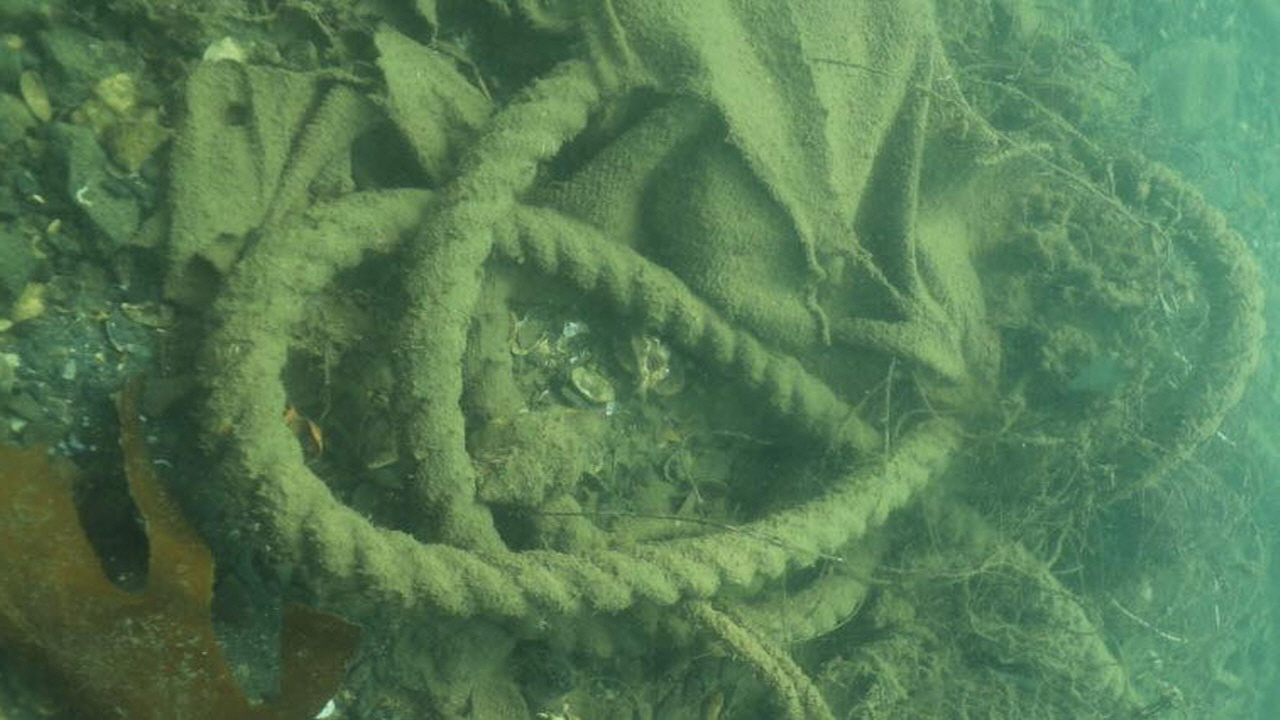bundle of ropes: (198, 50, 1269, 720)
